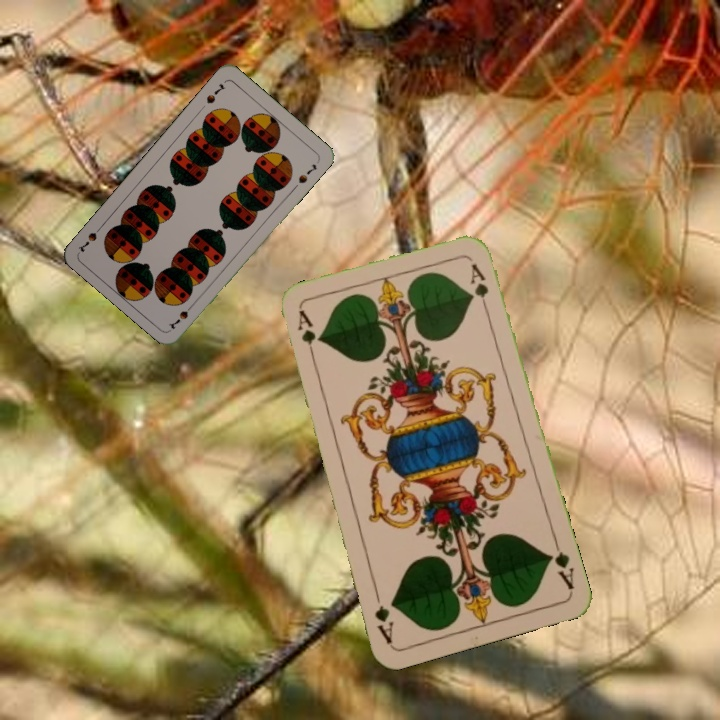GA: (544, 535, 577, 592), (293, 307, 319, 365)
S7: (165, 299, 198, 332), (202, 79, 229, 106)
